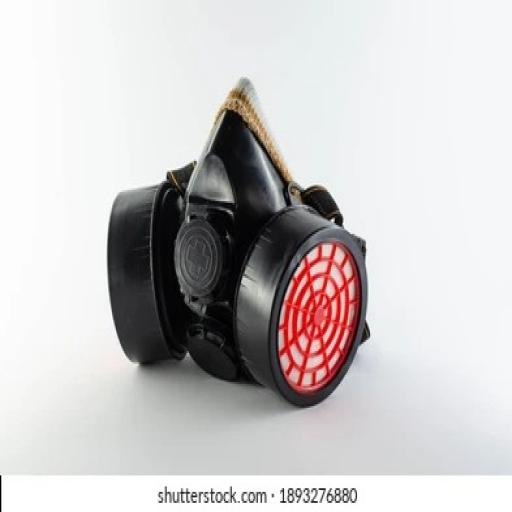mask: (92, 148, 388, 411)
